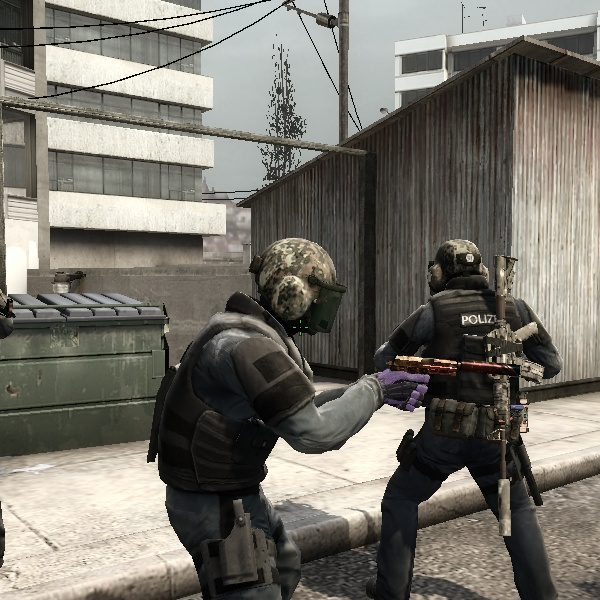ct_body: (132, 218, 411, 600), (373, 230, 577, 596)
ct_head: (238, 226, 353, 343), (418, 232, 501, 302)
